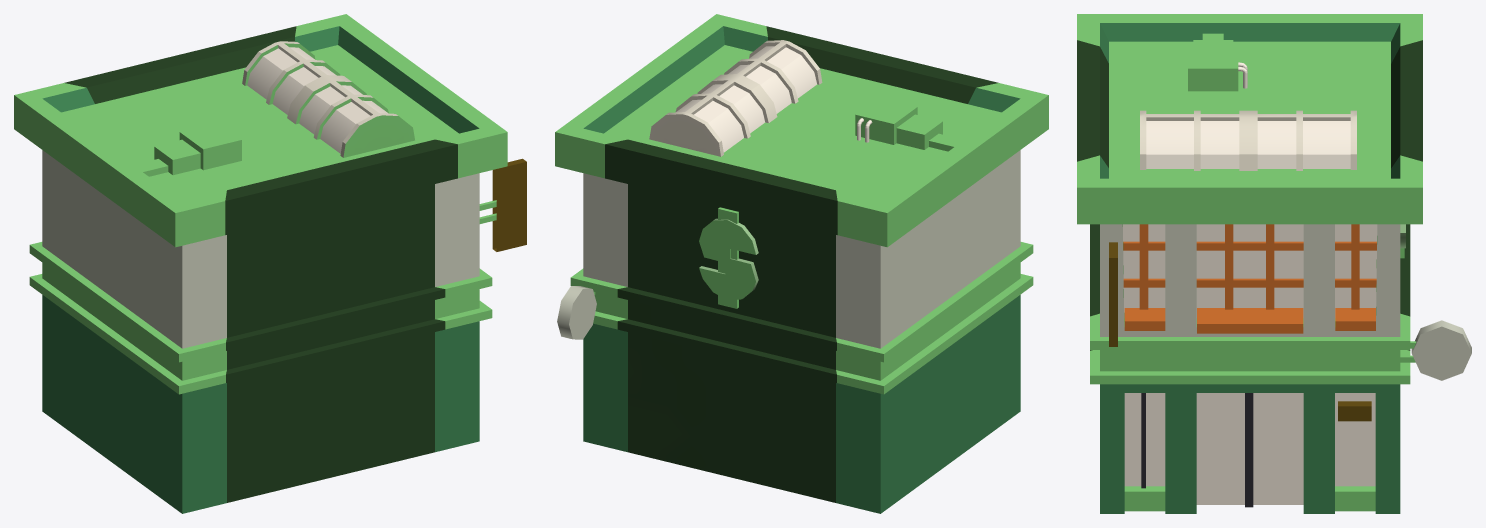
Rendered from Bank.fbx.
3 renders of one model, left to right at view 1: azimuth 30°, elevation 25°; view 2: azimuth 150°, elevation 25°; view 3: azimuth 270°, elevation 25°, orthographic. The views are drawn at different scales.
Parts seen in each view (by area): view 1: Bank; view 2: Bank; view 3: Bank.
Part boxes in pixels (x1,y1,x2,y2): Bank: (14, 14, 526, 513); Bank: (555, 14, 1048, 513); Bank: (1077, 14, 1471, 513).
Bounding box in the file's own units: 102 × 88.16 × 88.45.
